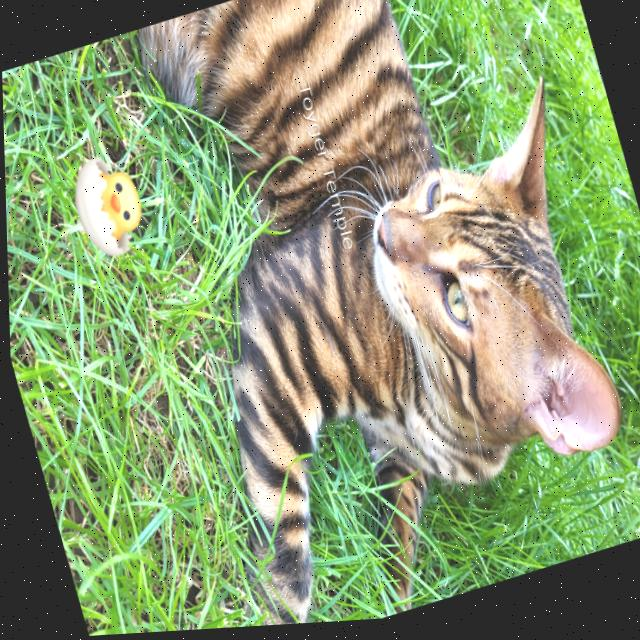Toyger: (79, 0, 640, 636)
